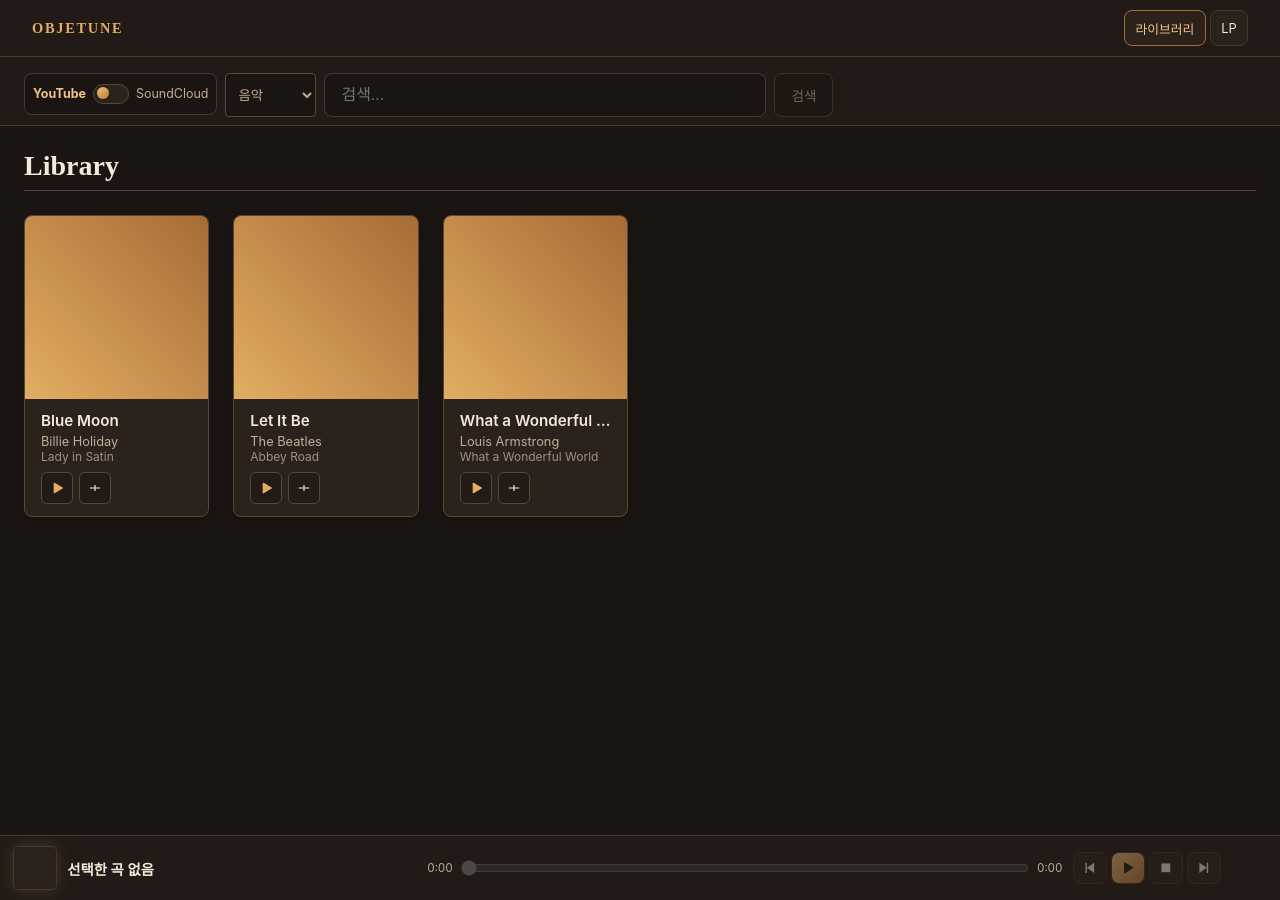
Test case: App › keeps the same mode buttons in the header across both views
Step 1. Click the button "LP" → (1229, 28), box [1210,10,1248,46]
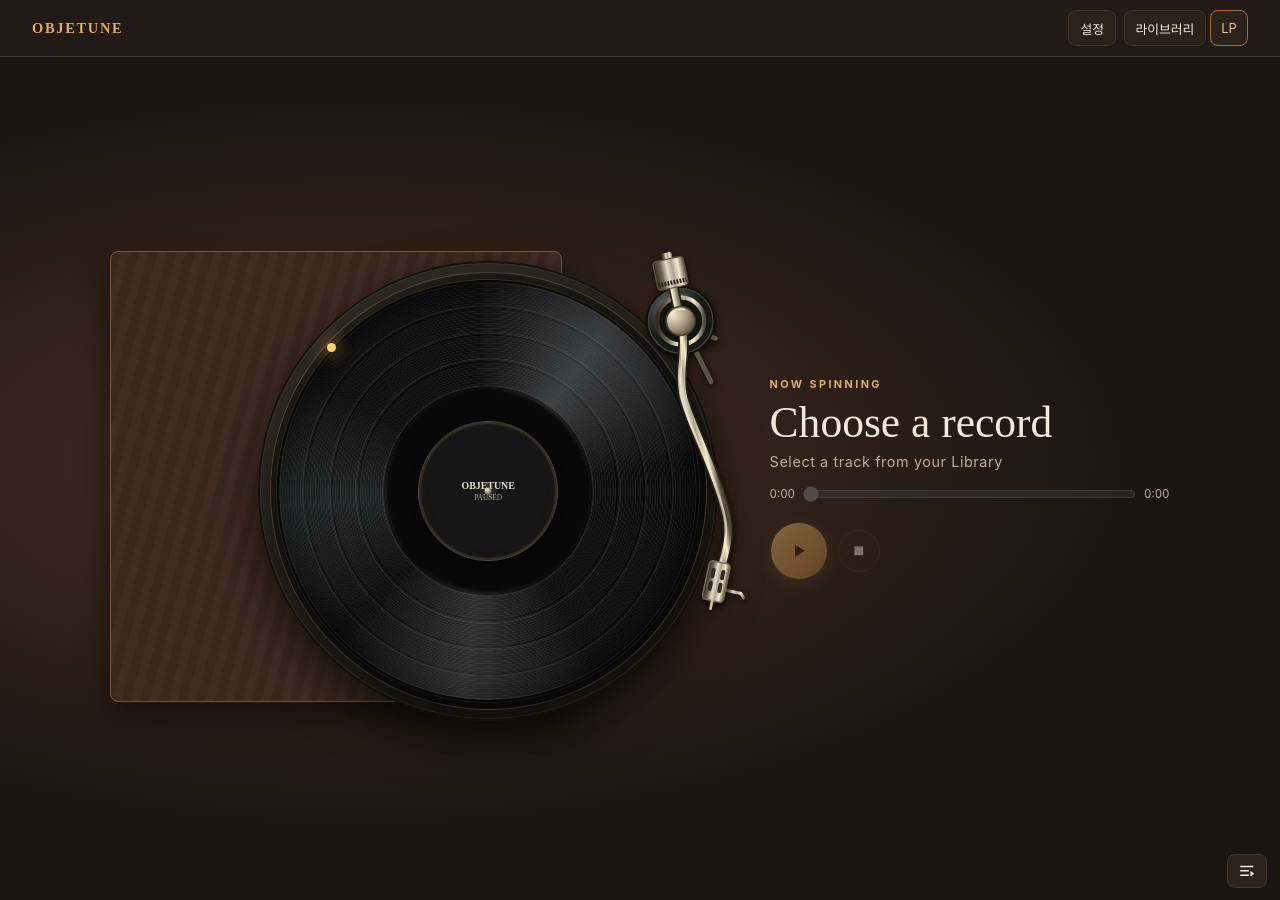
Result: the element named "Turntable" is shown
Step 2. Click the button "라이브러리" → (1165, 28), box [1124,10,1206,46]
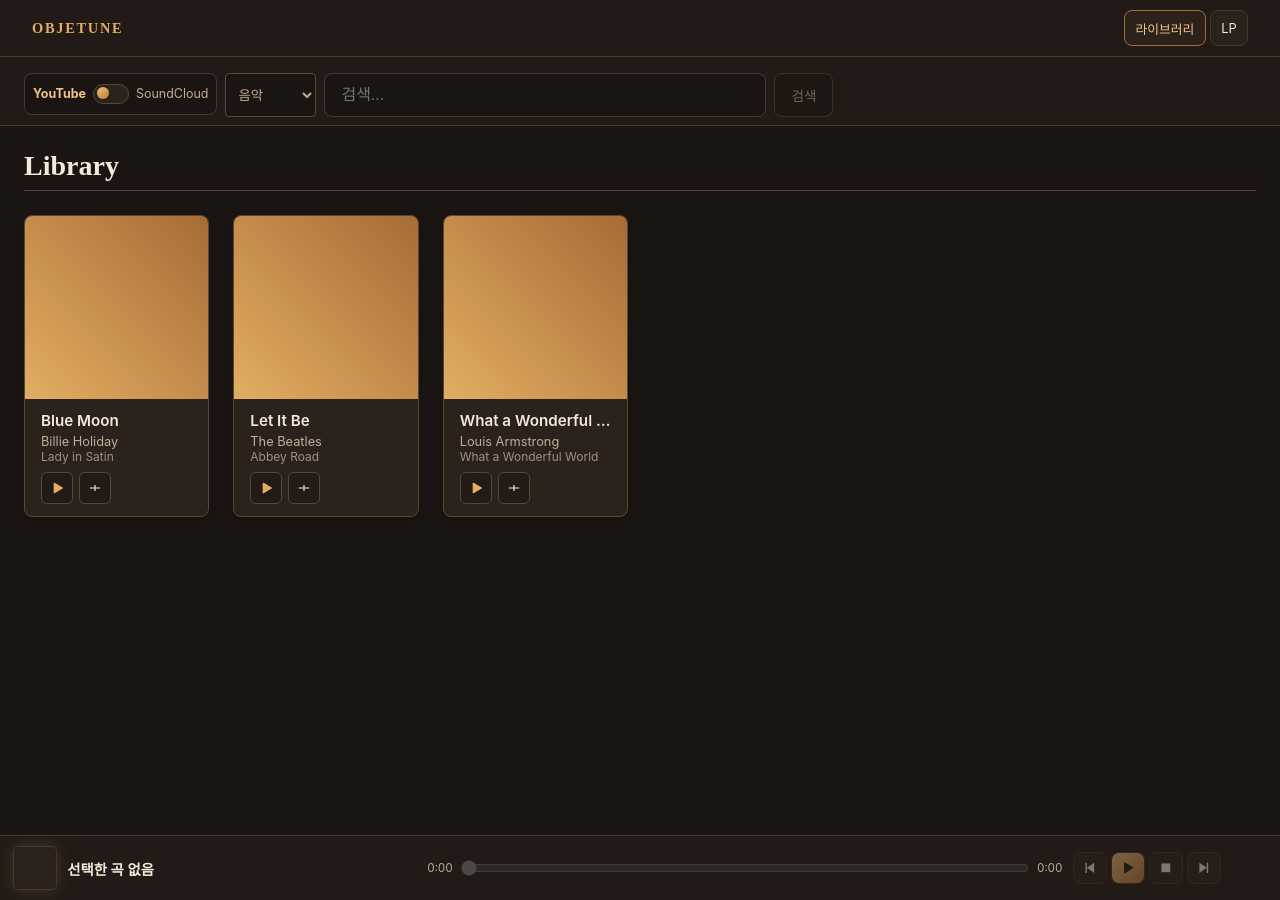
Expected: the heading "Library" is shown, [24,150,119,182]
Result: the button "라이브러리" is pressed at [1124,10,1206,46]
